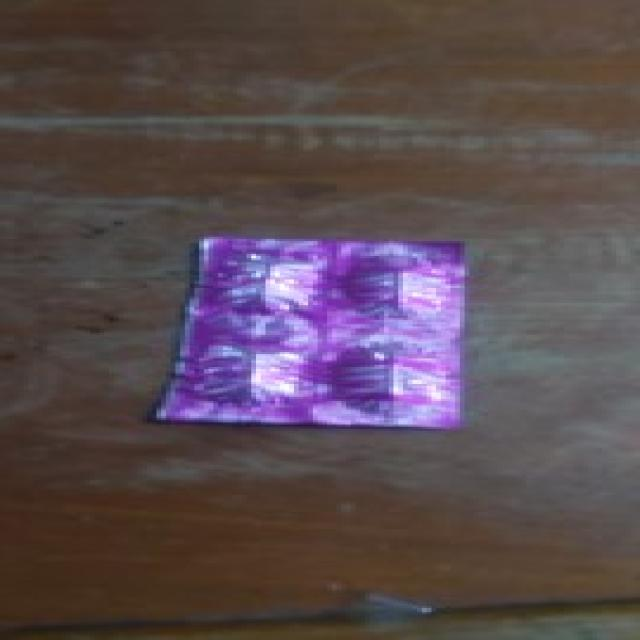Cacat: (155, 233, 472, 427)
